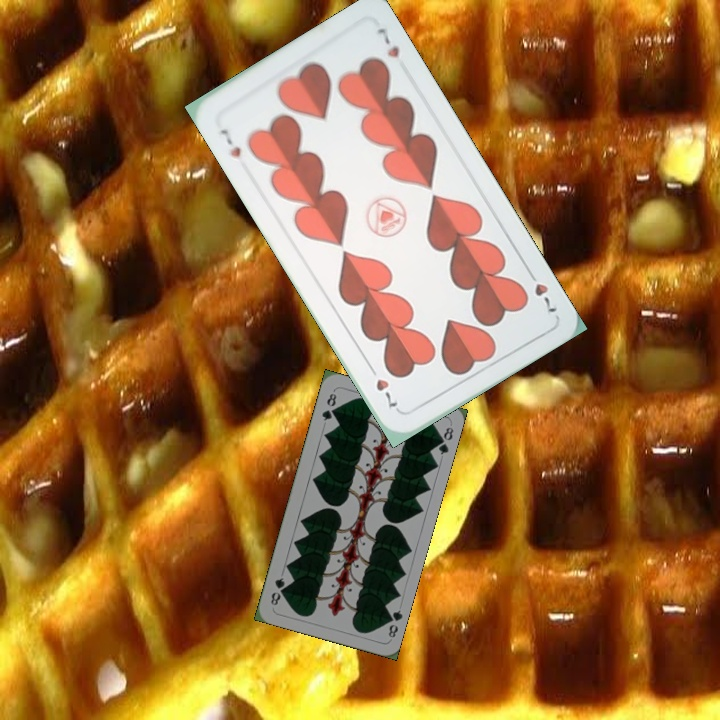G8: (381, 606, 405, 640), (318, 389, 339, 424)
H7: (523, 265, 560, 318), (216, 125, 244, 160)
